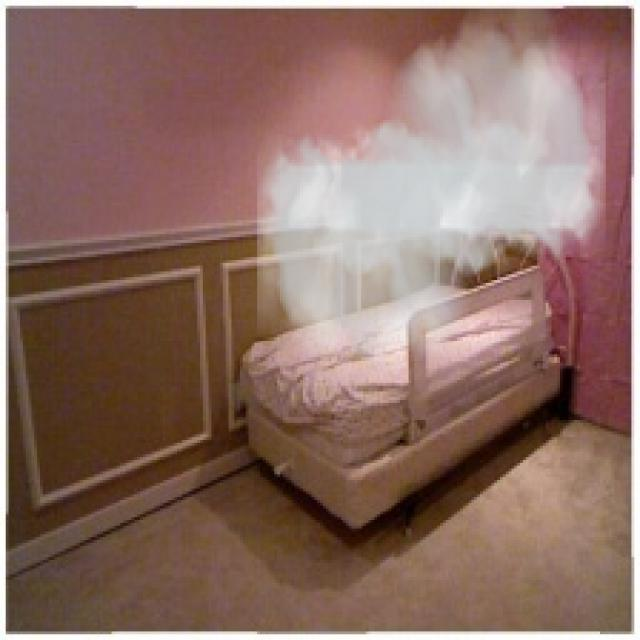smoke: (257, 8, 606, 386)
